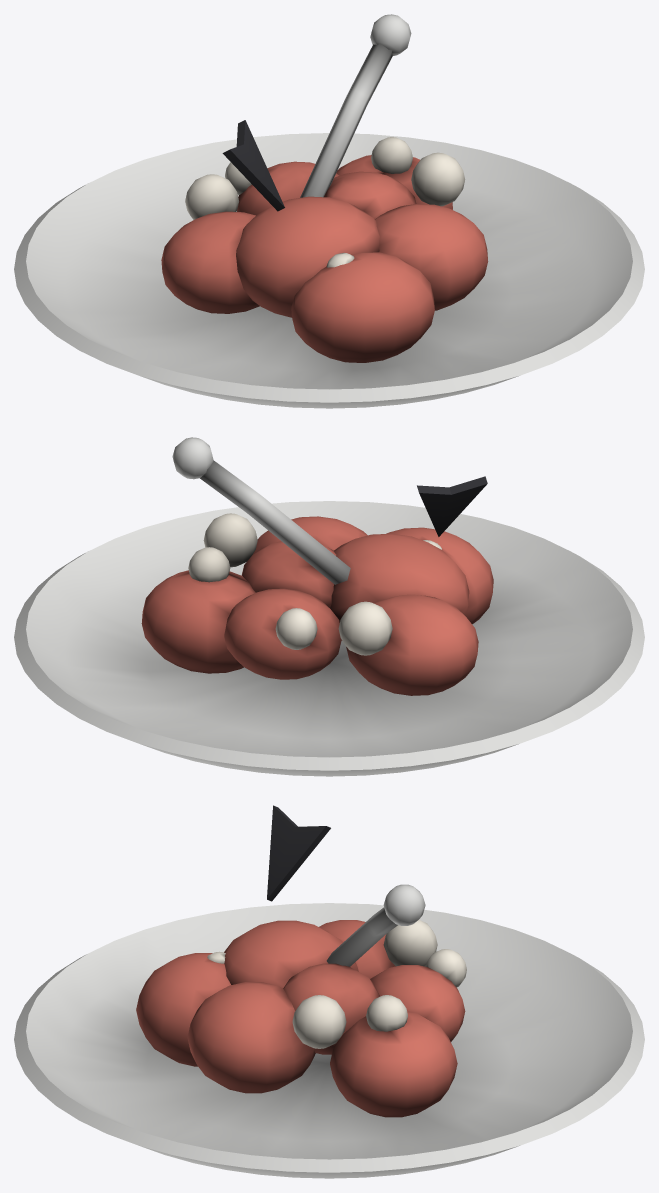
Rendered from meal_mess.glb.
The picture shows the model from 3 angles, top to bottom: view 1: azimuth 30°, elevation 25°; view 2: azimuth 150°, elevation 25°; view 3: azimuth 270°, elevation 25°; orthographic projection.
Parts seen in each view (by area): view 1: PART; view 2: PART; view 3: PART.
Part boxes in pixels (bbox=[...]): PART: bbox=[14, 14, 644, 408]; PART: bbox=[14, 437, 644, 776]; PART: bbox=[14, 805, 644, 1178].
Bounding box in the file's own units: 0.21 × 0.092 × 0.21.
